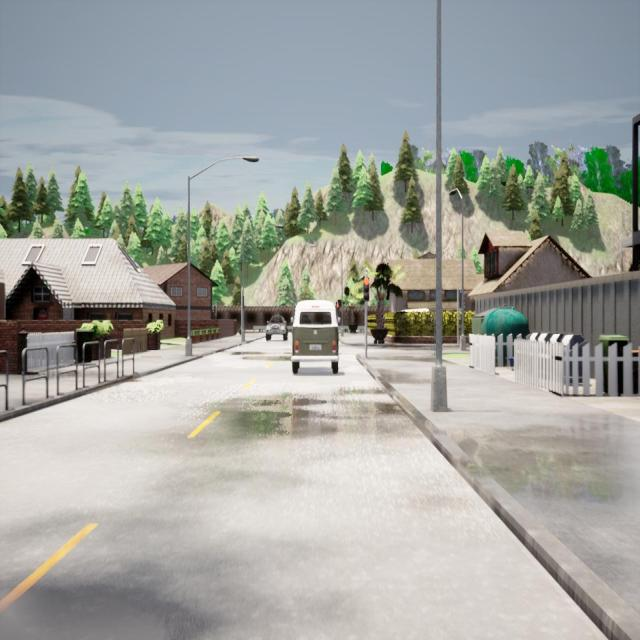Vehicle: (291, 300, 339, 374), (266, 316, 288, 340)
traffic_light: (364, 278, 369, 302), (459, 292, 462, 308), (336, 302, 339, 309), (214, 306, 216, 315)
